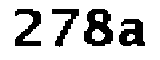2: (13, 8, 43, 51)
7: (48, 6, 81, 48)
8: (85, 9, 114, 52)
a: (118, 16, 147, 51)
